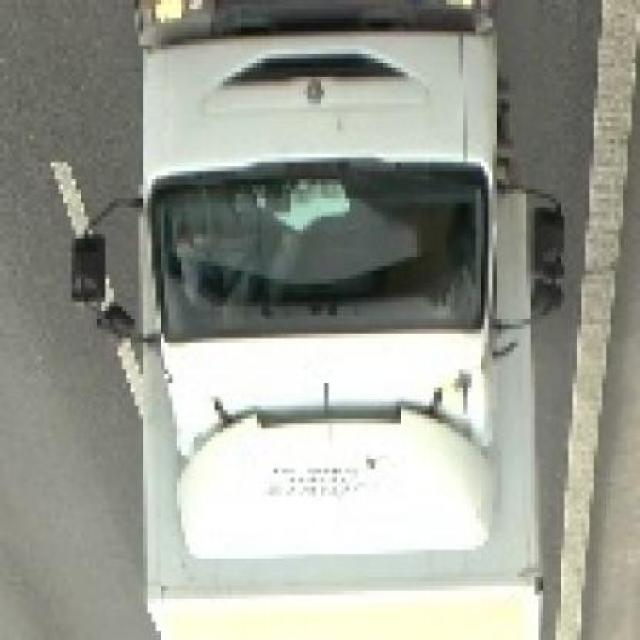truck: (127, 10, 540, 640)
